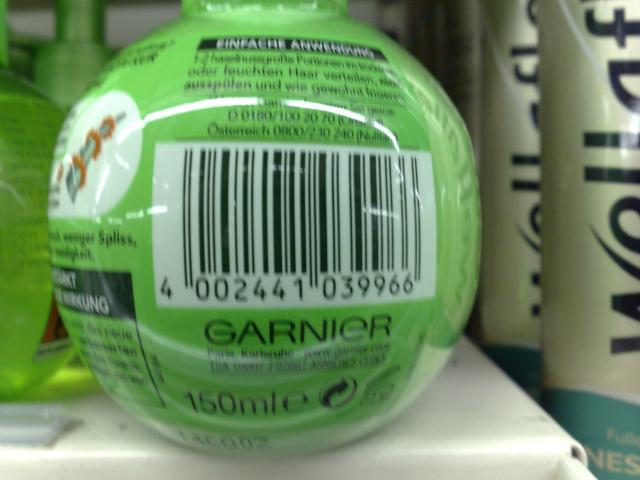Barkod: (179, 148, 419, 274)
